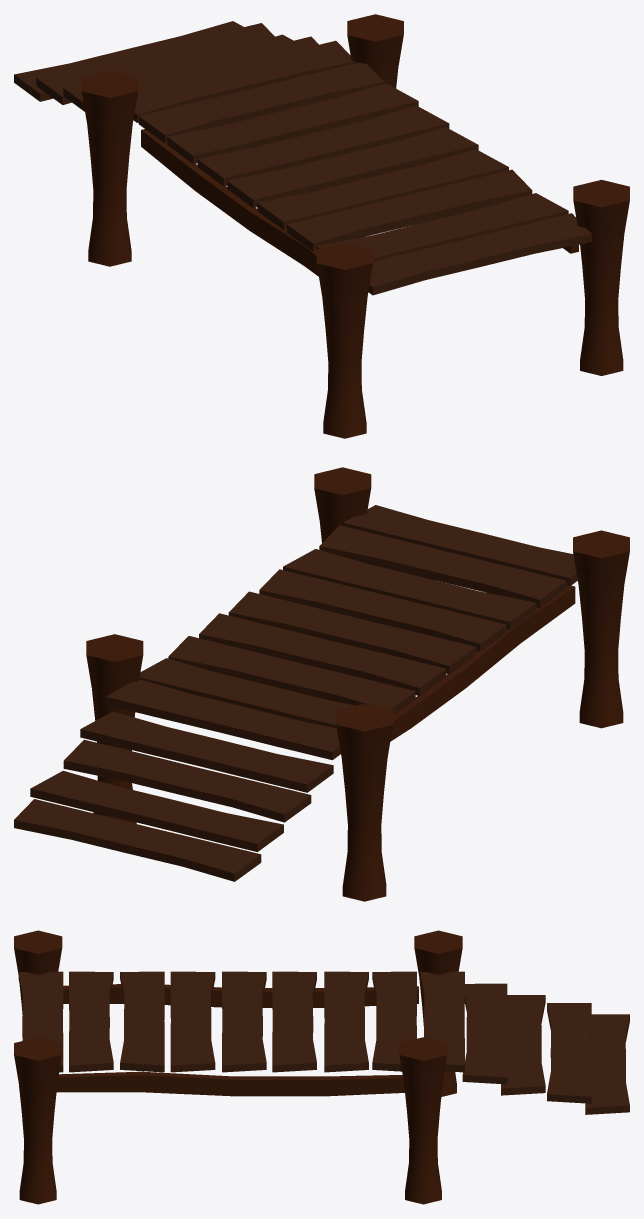
File: Ponton.FBX
The picture shows the model from 3 angles, top to bottom: view 1: azimuth 30°, elevation 25°; view 2: azimuth 150°, elevation 25°; view 3: azimuth 270°, elevation 25°; orthographic projection. The views are drawn at different scales.
Parts seen in each view (by area): view 1: Cylinder001; view 2: Cylinder001; view 3: Cylinder001.
Boxes of the visible parts, bbox=[...] form: Cylinder001: bbox=[14, 14, 629, 438]; Cylinder001: bbox=[14, 467, 629, 901]; Cylinder001: bbox=[14, 930, 629, 1204].
Bounding box in the file's own units: 32.26 × 16.92 × 64.47.
